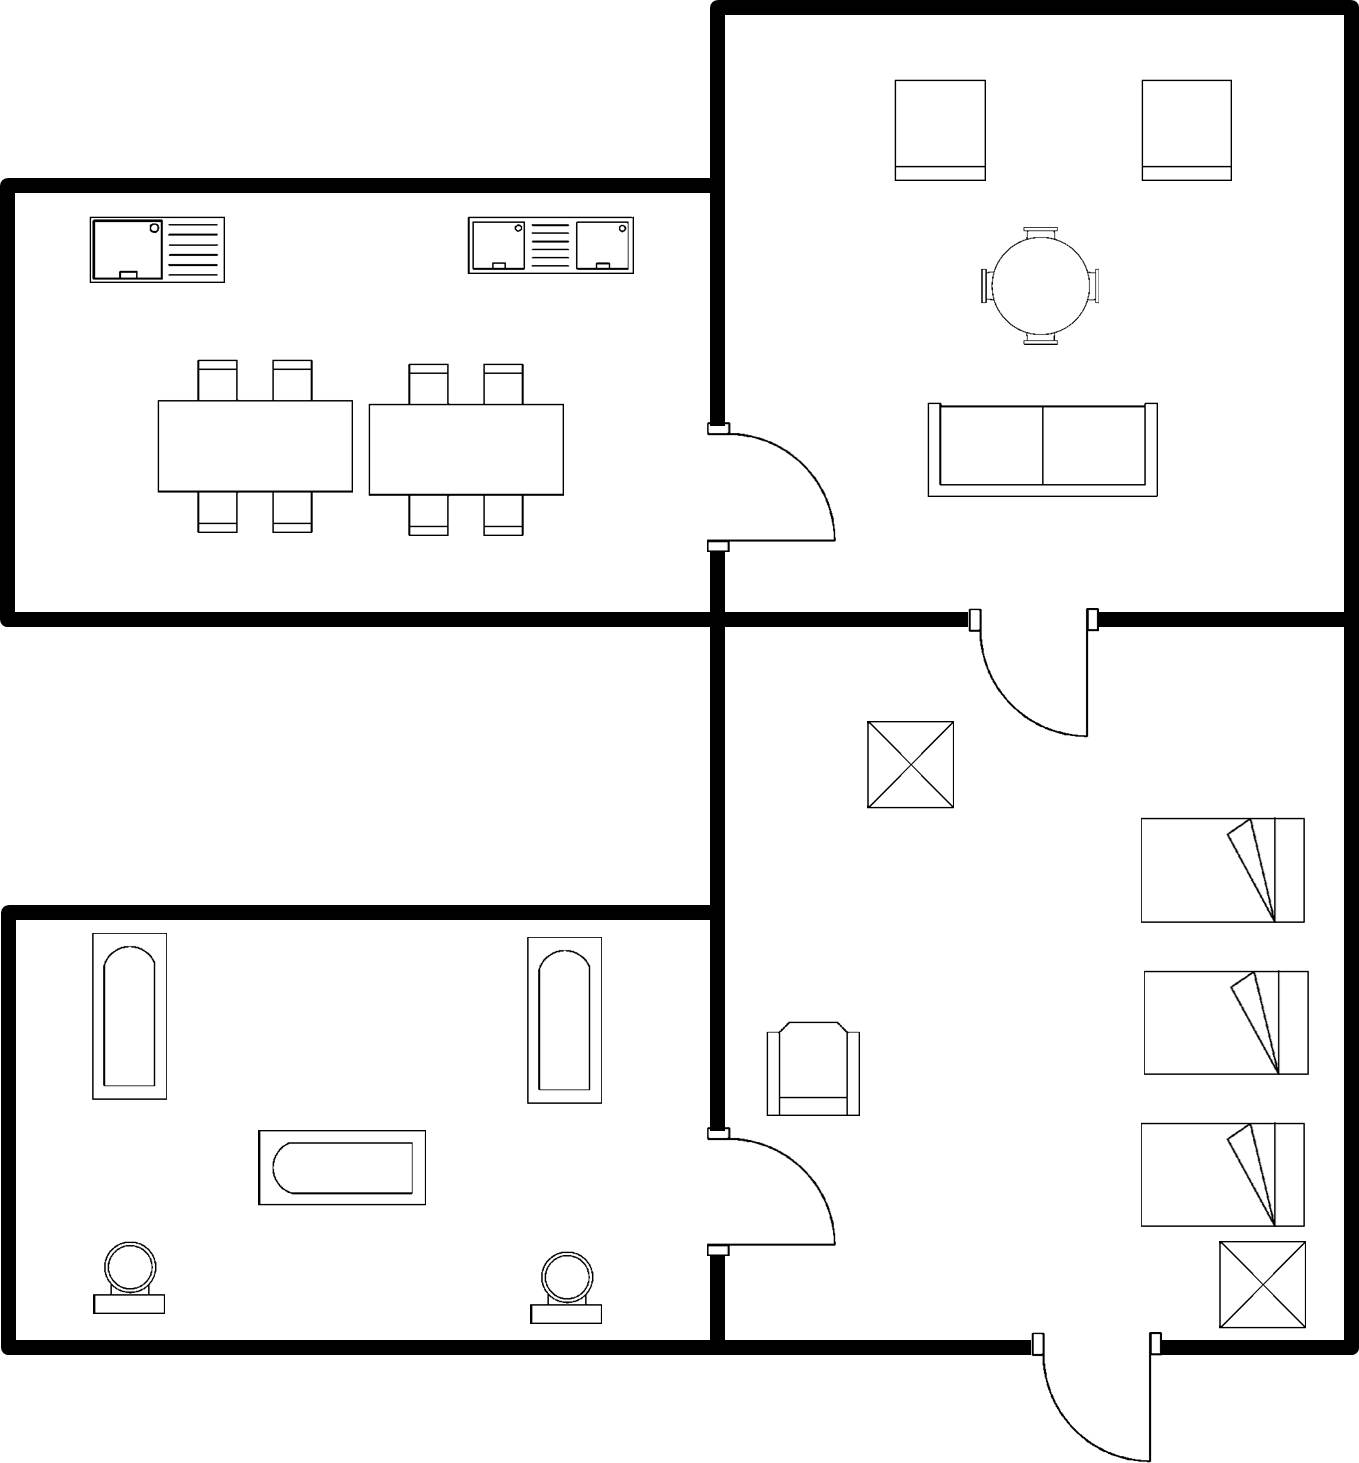armchair: (751, 1008, 874, 1131)
bed: (1129, 808, 1314, 937), (1131, 957, 1316, 1085), (1127, 1114, 1320, 1237)
coffee_table: (860, 710, 967, 820), (1207, 1233, 1316, 1334)
dining_table: (364, 351, 574, 554), (146, 350, 360, 540)
large_sink: (77, 1233, 186, 1333), (513, 1240, 614, 1335)
large_sofa: (916, 391, 1171, 508)
round_table: (973, 217, 1109, 357)
sink: (80, 208, 234, 297)
small_sofa: (886, 68, 997, 193), (1133, 71, 1244, 193)
tub: (244, 1118, 436, 1220), (83, 923, 177, 1115), (516, 927, 610, 1118)
twin_sink: (453, 207, 644, 287)
